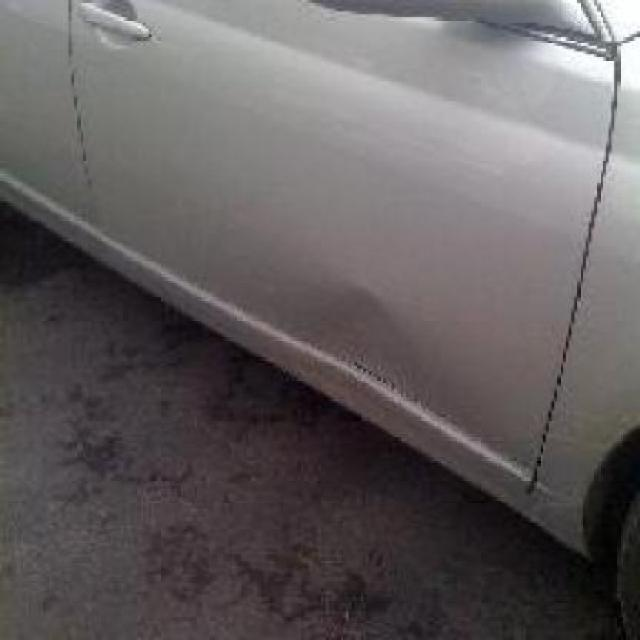dent-or-scratch: (322, 276, 406, 350)
